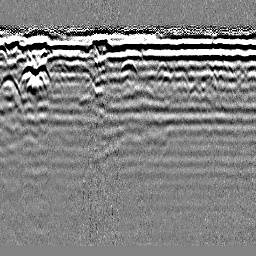cavity: (119, 59, 138, 74)
